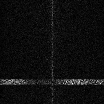wifi: (1, 78, 104, 85)
